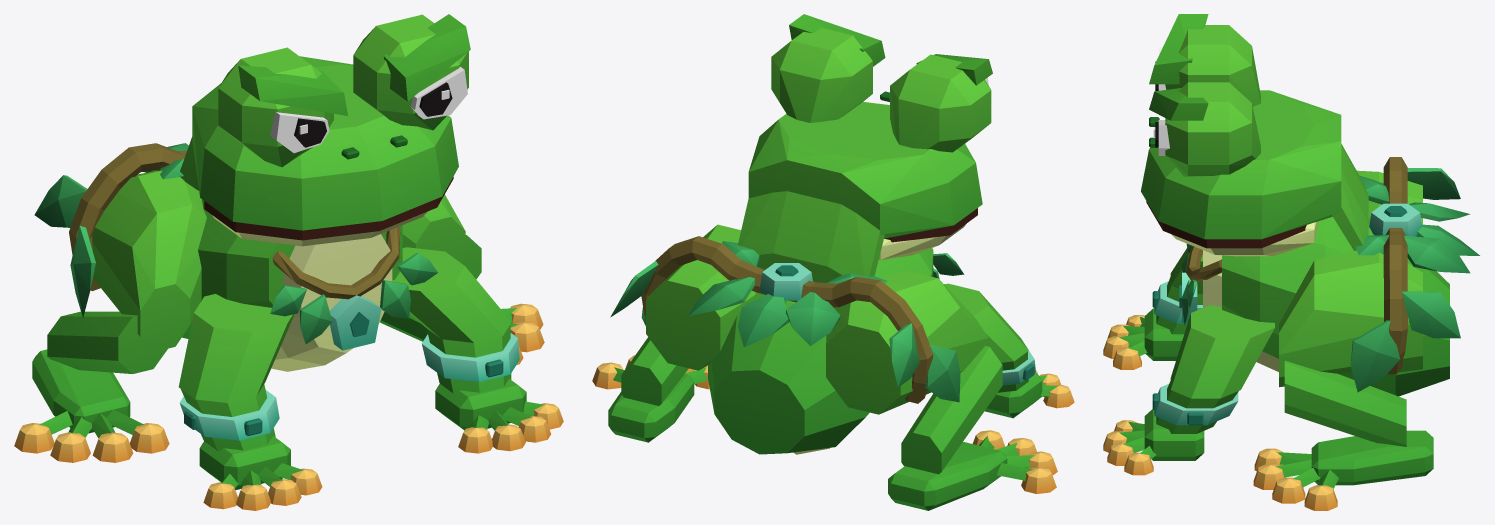
File: JabFrog.glb
3 views of the same model, side by side, from view 1: azimuth 30°, elevation 25°; view 2: azimuth 150°, elevation 25°; view 3: azimuth 270°, elevation 25° (orthographic). The views are drawn at different scales.
Parts seen in each view (by area): view 1: JabFrog; view 2: JabFrog; view 3: JabFrog.
Boxes of the visible parts, box(x1,y1,x2,y2) form: JabFrog: box(14, 14, 563, 510); JabFrog: box(592, 14, 1074, 510); JabFrog: box(1103, 14, 1479, 510).
Size of the model in its own units: 1.08 by 0.7784 by 0.7796.
1 material, 1 textured.
